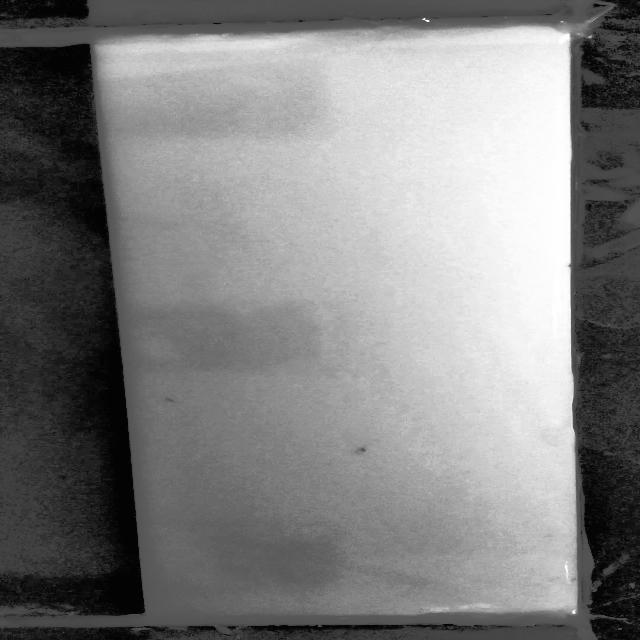shrimp: (352, 442, 377, 458), (159, 396, 182, 405)
